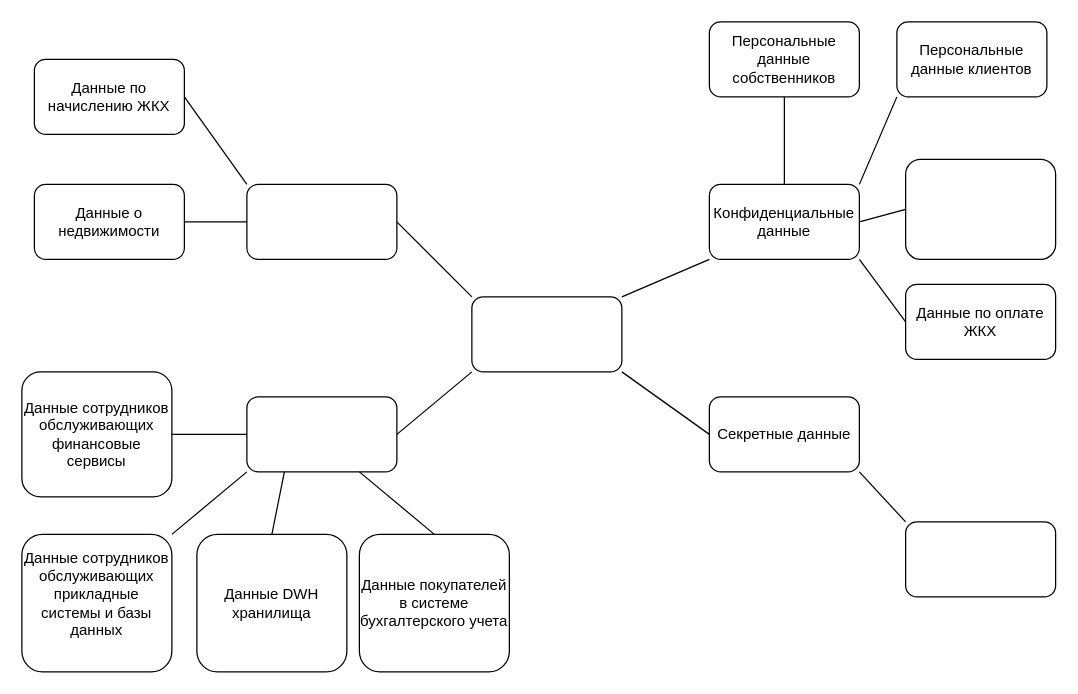
Some shapes in this 1078 by 694 pixel diagram are drawn without their labels. The shapes that lost their labels are listed below. From the top down, each one's centre as x and y in pixels, then its label:
(321,221): Публичные данные
(980,208): Данные о государственной регистрации
(546,334): Безопасность данных
(321,434): Внутренние данные
(980,559): Данные атентификации внешних пользователей
